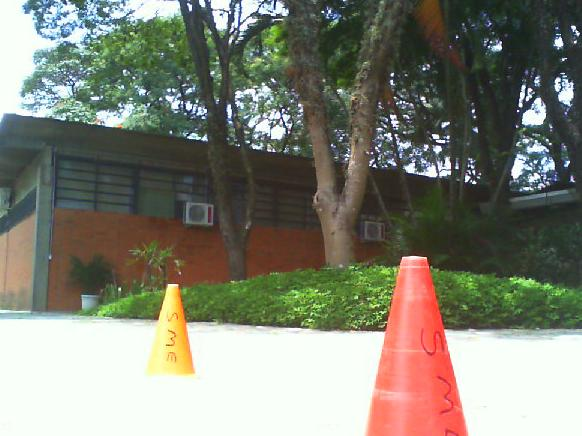0 cone: (359, 256, 476, 436), (150, 283, 195, 376)
